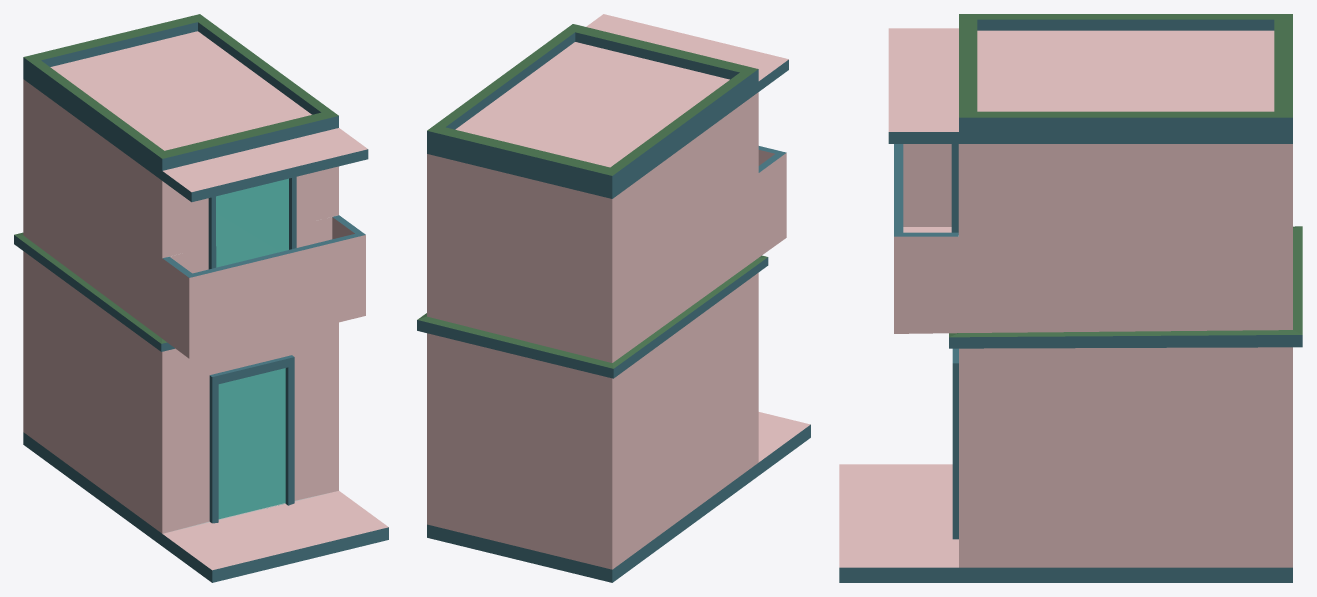
File: cad2.glb
3 renders of one model, left to right at view 1: azimuth 30°, elevation 25°; view 2: azimuth 150°, elevation 25°; view 3: azimuth 270°, elevation 25°, orthographic. The views are drawn at different scales.
Parts seen in each view (by area): view 1: pCube1; view 2: pCube1; view 3: pCube1.
Boxes of the visible parts, <box> form: pCube1: <box>14,14,388,582</box>; pCube1: <box>417,14,810,582</box>; pCube1: <box>839,14,1302,582</box>.
Size of the model in its own units: 2.31 by 4.58 by 4.13.
